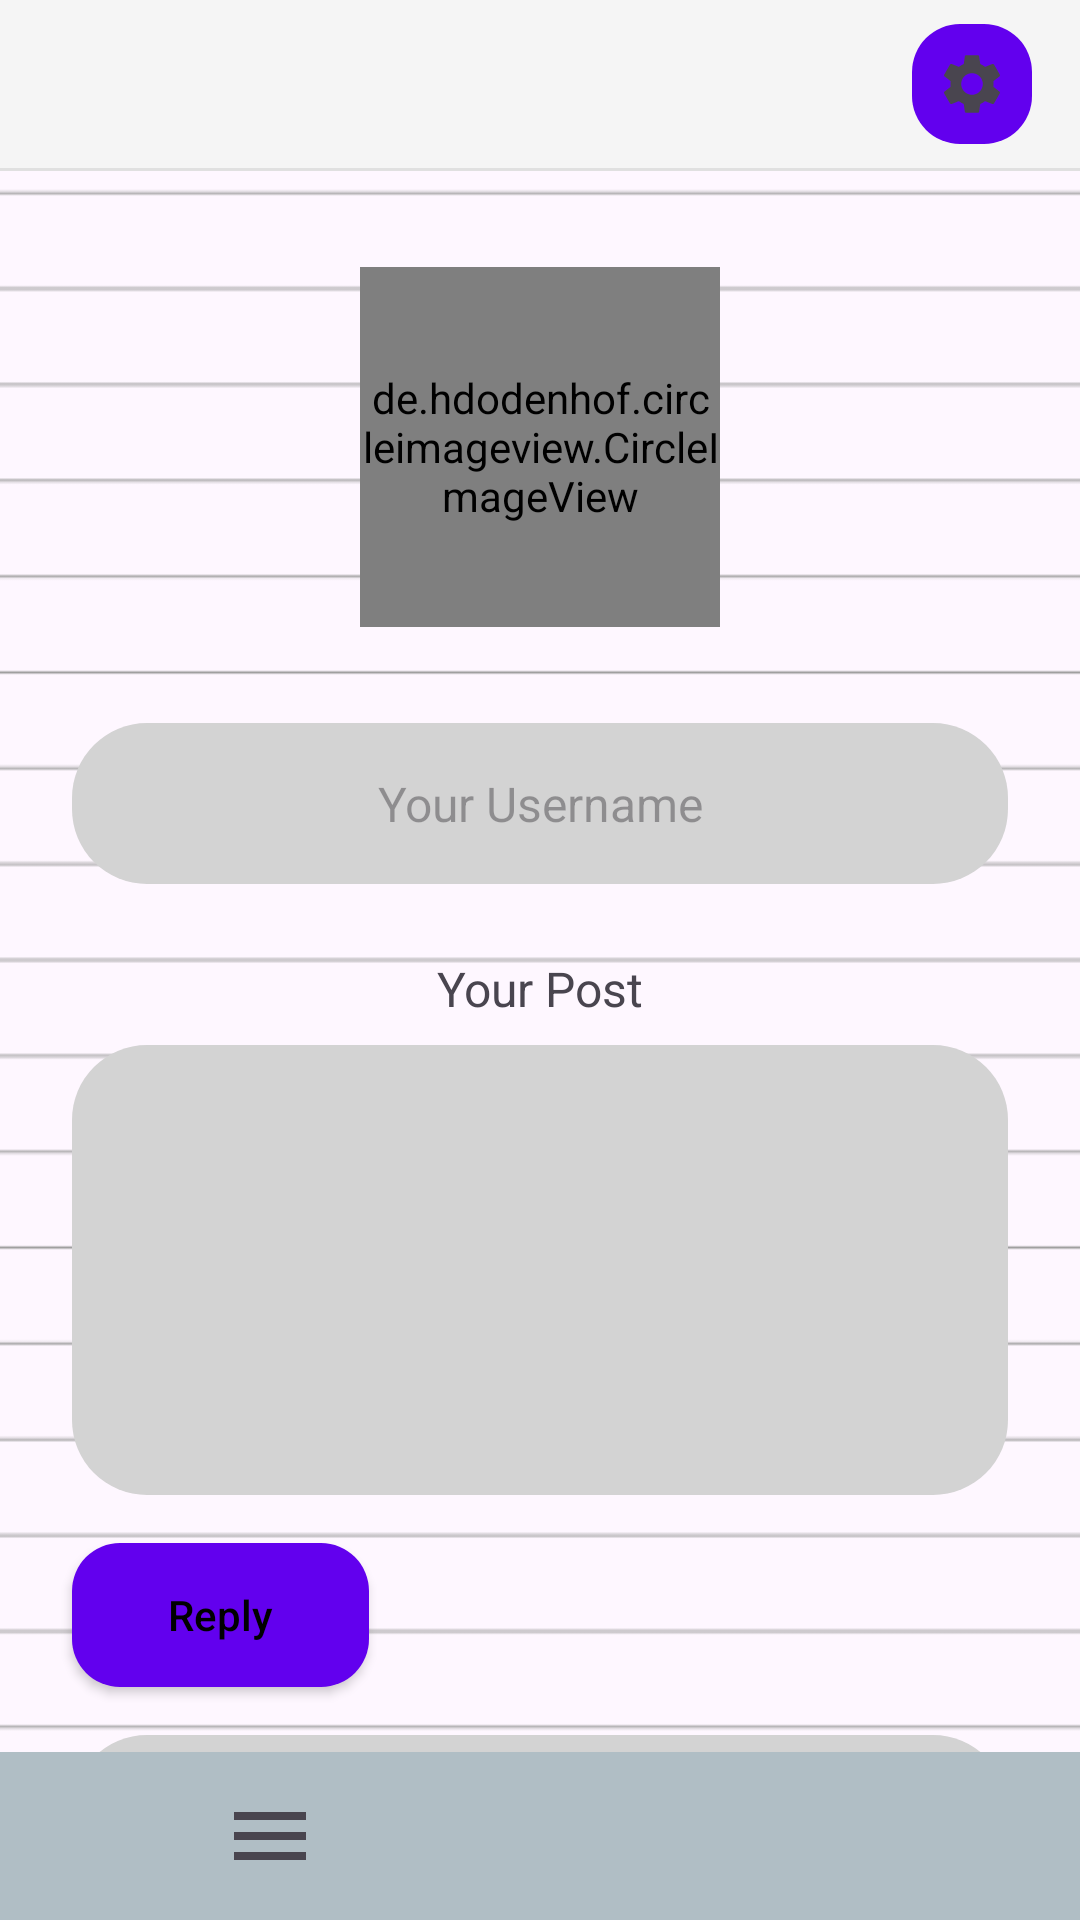

Named icons in this screenshot (1080×1920) and their centers, (x=x, y=y):
setting: (x=972, y=84)
